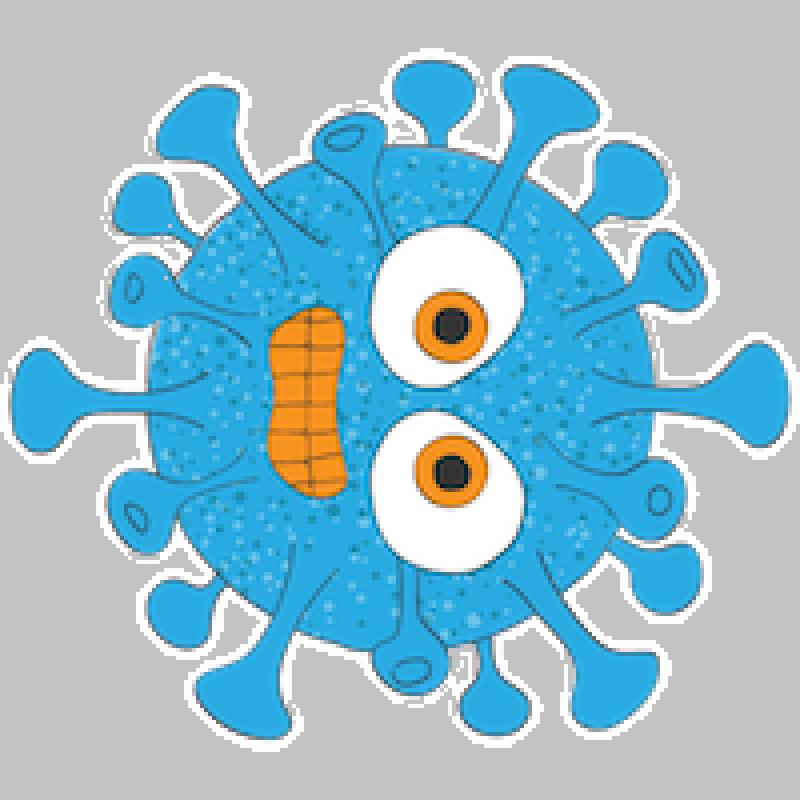corona1: (8, 4, 797, 799)
